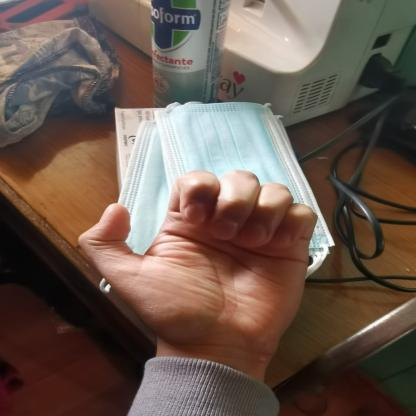E: (65, 164, 324, 373)
